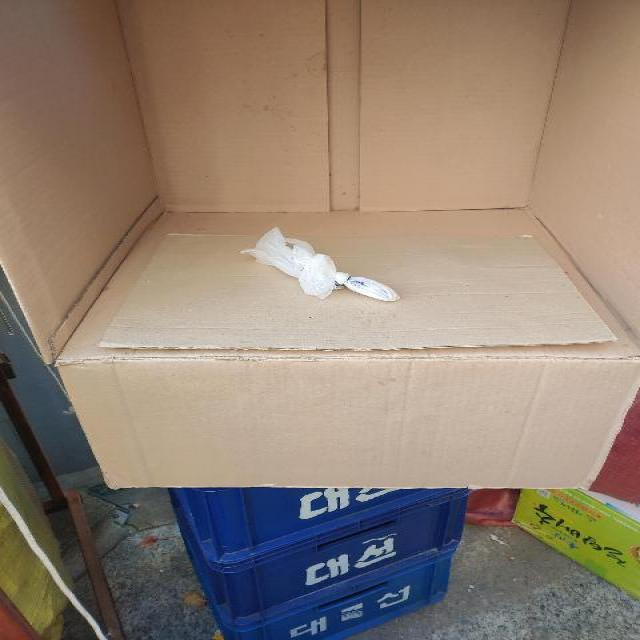plastic bag: (248, 228, 400, 312)
